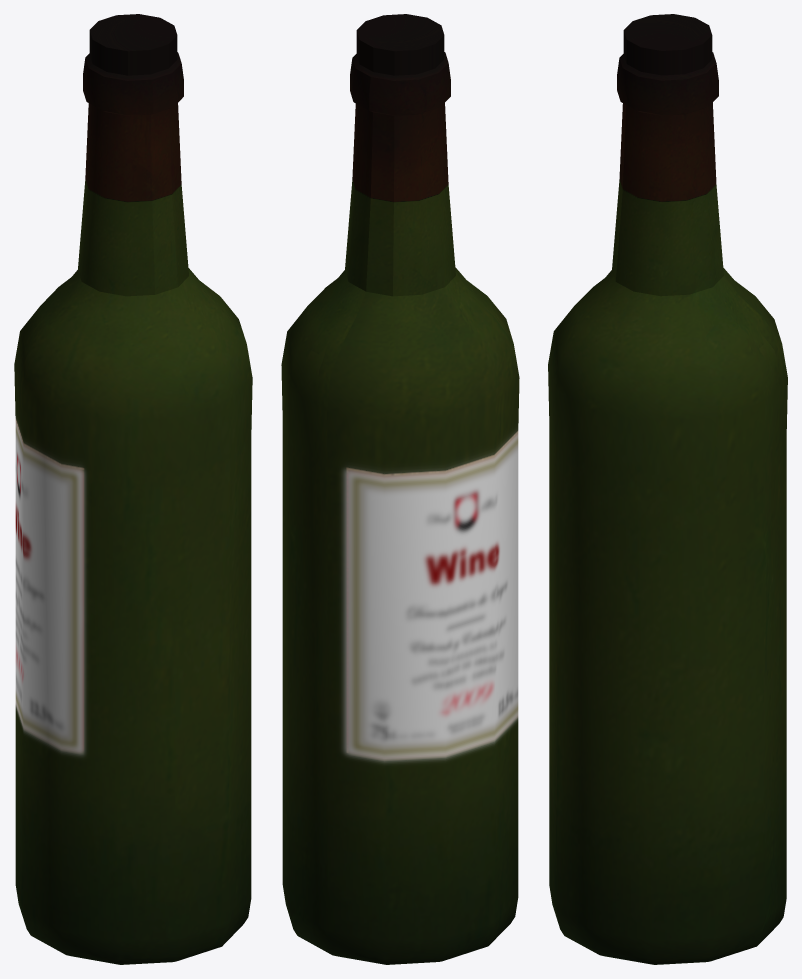
Rendered from Bottle 2.FBX.
3 views of the same model, side by side, from view 1: azimuth 30°, elevation 25°; view 2: azimuth 150°, elevation 25°; view 3: azimuth 270°, elevation 25° (orthographic).
Parts seen in each view (by area): view 1: Bottle 2; view 2: Bottle 2; view 3: Bottle 2.
Part boxes in pixels (x1,y1,x2,y2): Bottle 2: (14, 14, 252, 964); Bottle 2: (281, 14, 519, 964); Bottle 2: (548, 14, 787, 964).
Size of the model in its own units: 17.36 by 71.66 by 17.52.
Materials: 1 (1 with a texture image).
